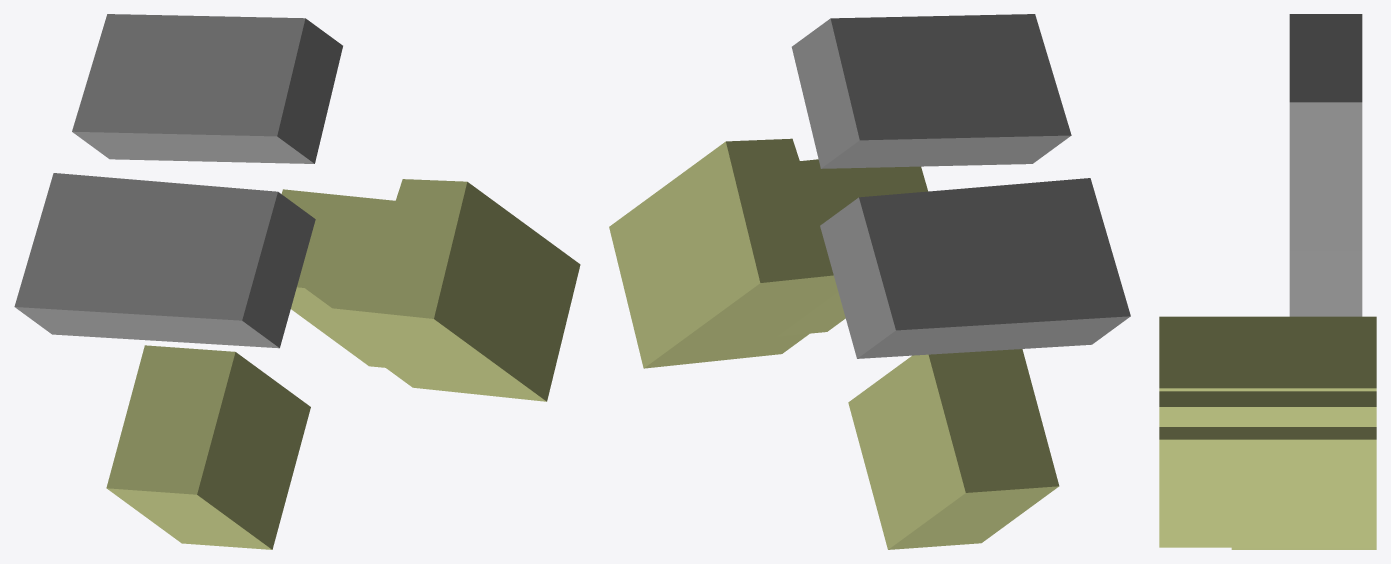
3 renders of one model, left to right at view 1: azimuth 30°, elevation 25°; view 2: azimuth 150°, elevation 25°; view 3: azimuth 270°, elevation 25°, orthographic. The views are drawn at different scales.
Parts seen in each view (by area): view 1: 0_1_0_1_3_3_3_3_2_1; view 2: 0_1_0_1_3_3_3_3_2_1; view 3: 0_1_0_1_3_3_3_3_2_1.
Boxes of the visible parts, x1=… form: 0_1_0_1_3_3_3_3_2_1: x1=14, y1=14, x2=580, y2=549; 0_1_0_1_3_3_3_3_2_1: x1=609, y1=14, x2=1130, y2=549; 0_1_0_1_3_3_3_3_2_1: x1=1159, y1=14, x2=1376, y2=549.
Size of the model in its own units: 21.15 by 22.38 by 9.
